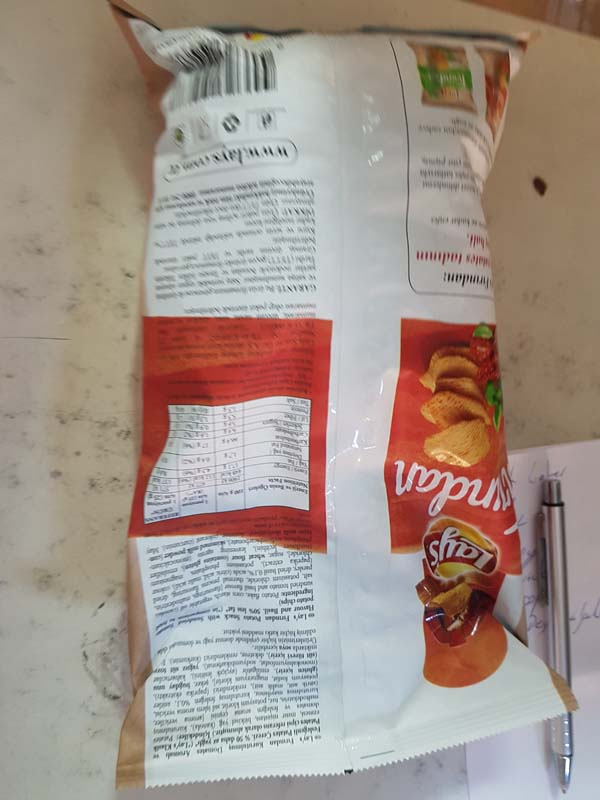laysfirindan: (108, 3, 592, 800)
